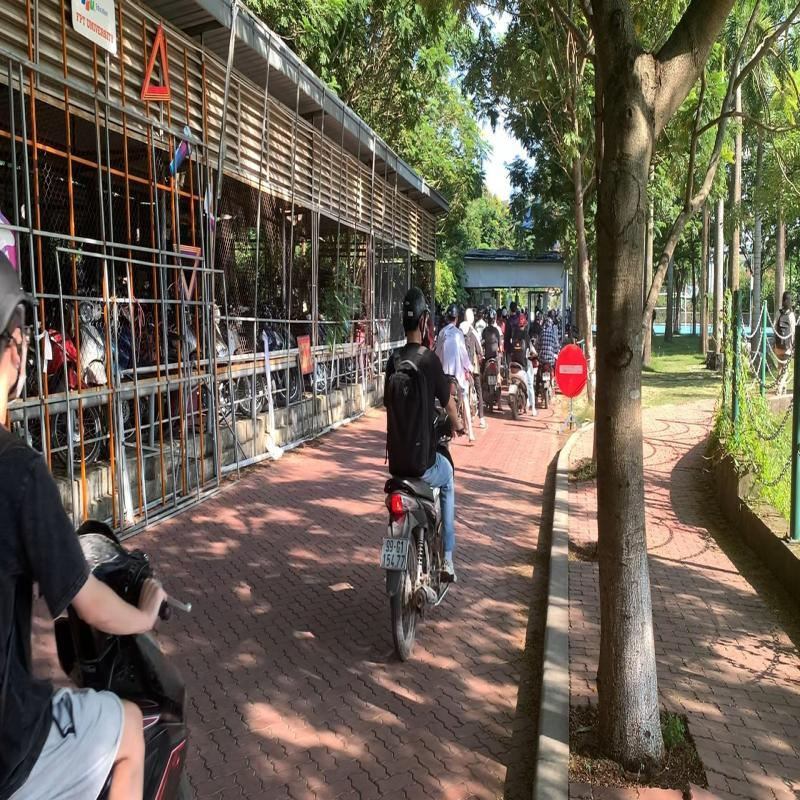helmet: (402, 284, 430, 342), (518, 313, 527, 328)
licenseplate: (380, 536, 410, 574), (508, 384, 518, 395)
motorcyclist: (382, 286, 467, 662), (508, 312, 539, 420)
